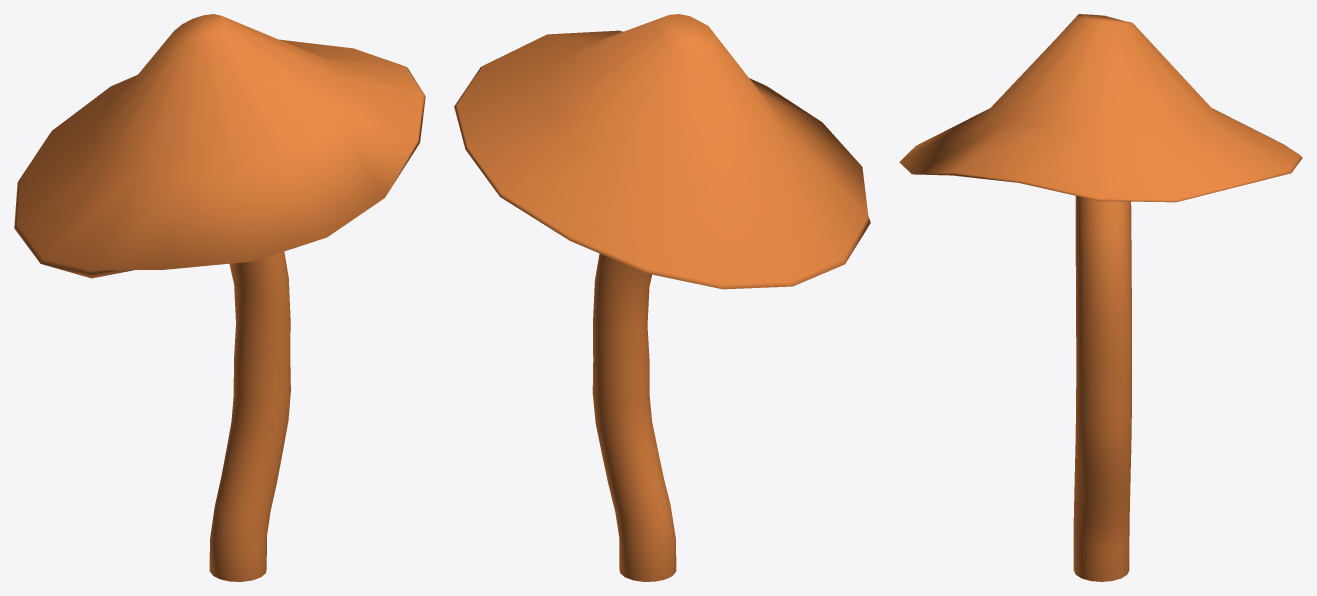
Rendered from Mushroom.glb.
3 views of the same model, side by side, from view 1: azimuth 30°, elevation 25°; view 2: azimuth 150°, elevation 25°; view 3: azimuth 270°, elevation 25° (orthographic). The views are drawn at different scales.
Parts seen in each view (by area): view 1: Mushroom; view 2: Mushroom; view 3: Mushroom.
Part boxes in pixels (x1=…): Mushroom: x1=14, y1=14, x2=425, y2=581; Mushroom: x1=454, y1=14, x2=870, y2=581; Mushroom: x1=899, y1=14, x2=1302, y2=581.
Bounding box in the file's own units: 3.39 × 4.94 × 3.33.
